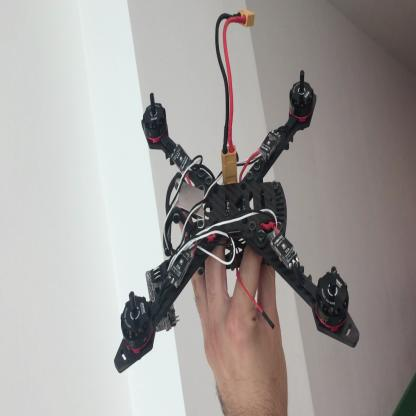drone: (111, 71, 360, 379)
